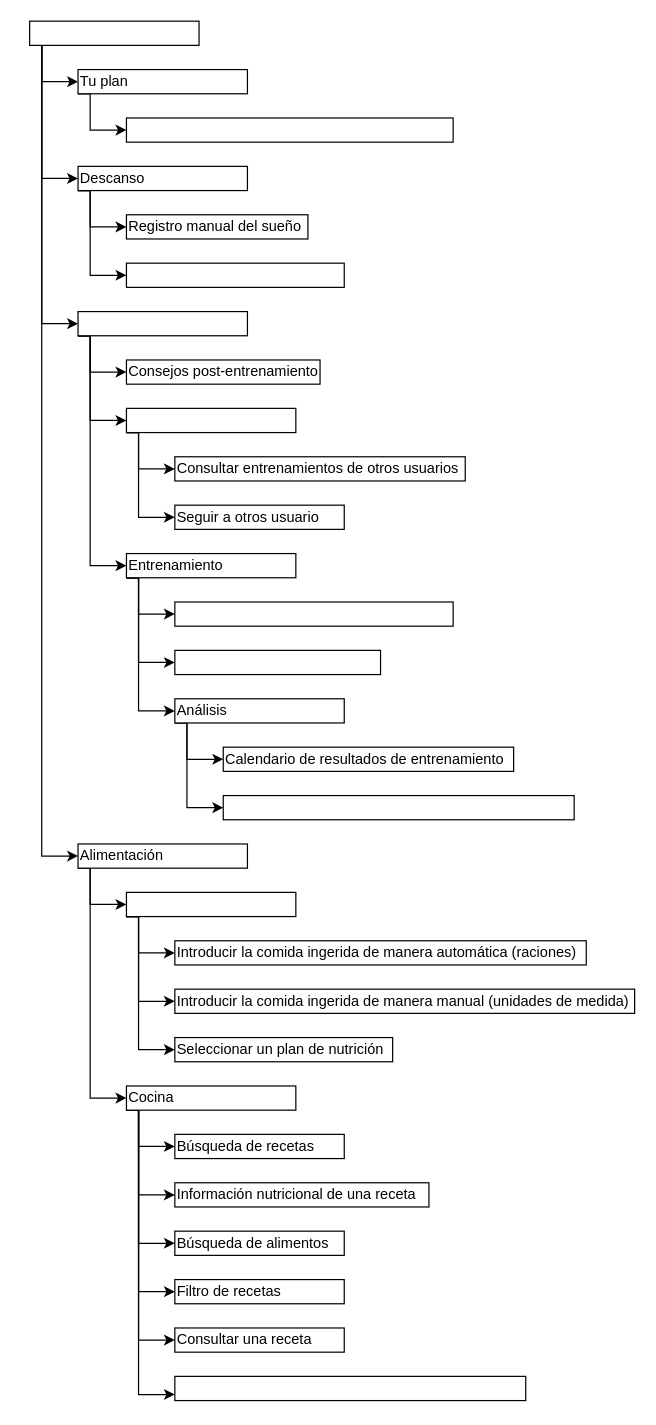
Image size: 656x1425. Some labels were removed from this diagram. The box of each missing label's shape, as (x1, y1, x2, y2) in pixels:
Actividad: (77, 310, 247, 336)
Análisis de la forma física en función de lo entrenado: (222, 794, 574, 820)
Añadir entrenamientos de manera manual: (174, 601, 453, 626)
Calculadora de cantidades en función de las raciones: (174, 1375, 526, 1401)
Comunidad: (125, 407, 296, 433)
Consejos de nutrición en función de lo entrenado: (125, 117, 453, 142)
Home: (28, 20, 199, 45)
Nutrición: (125, 891, 296, 917)
Planificador de entrenamientos: (174, 649, 381, 675)
Resumen de las horas de sueño: (125, 262, 344, 287)
